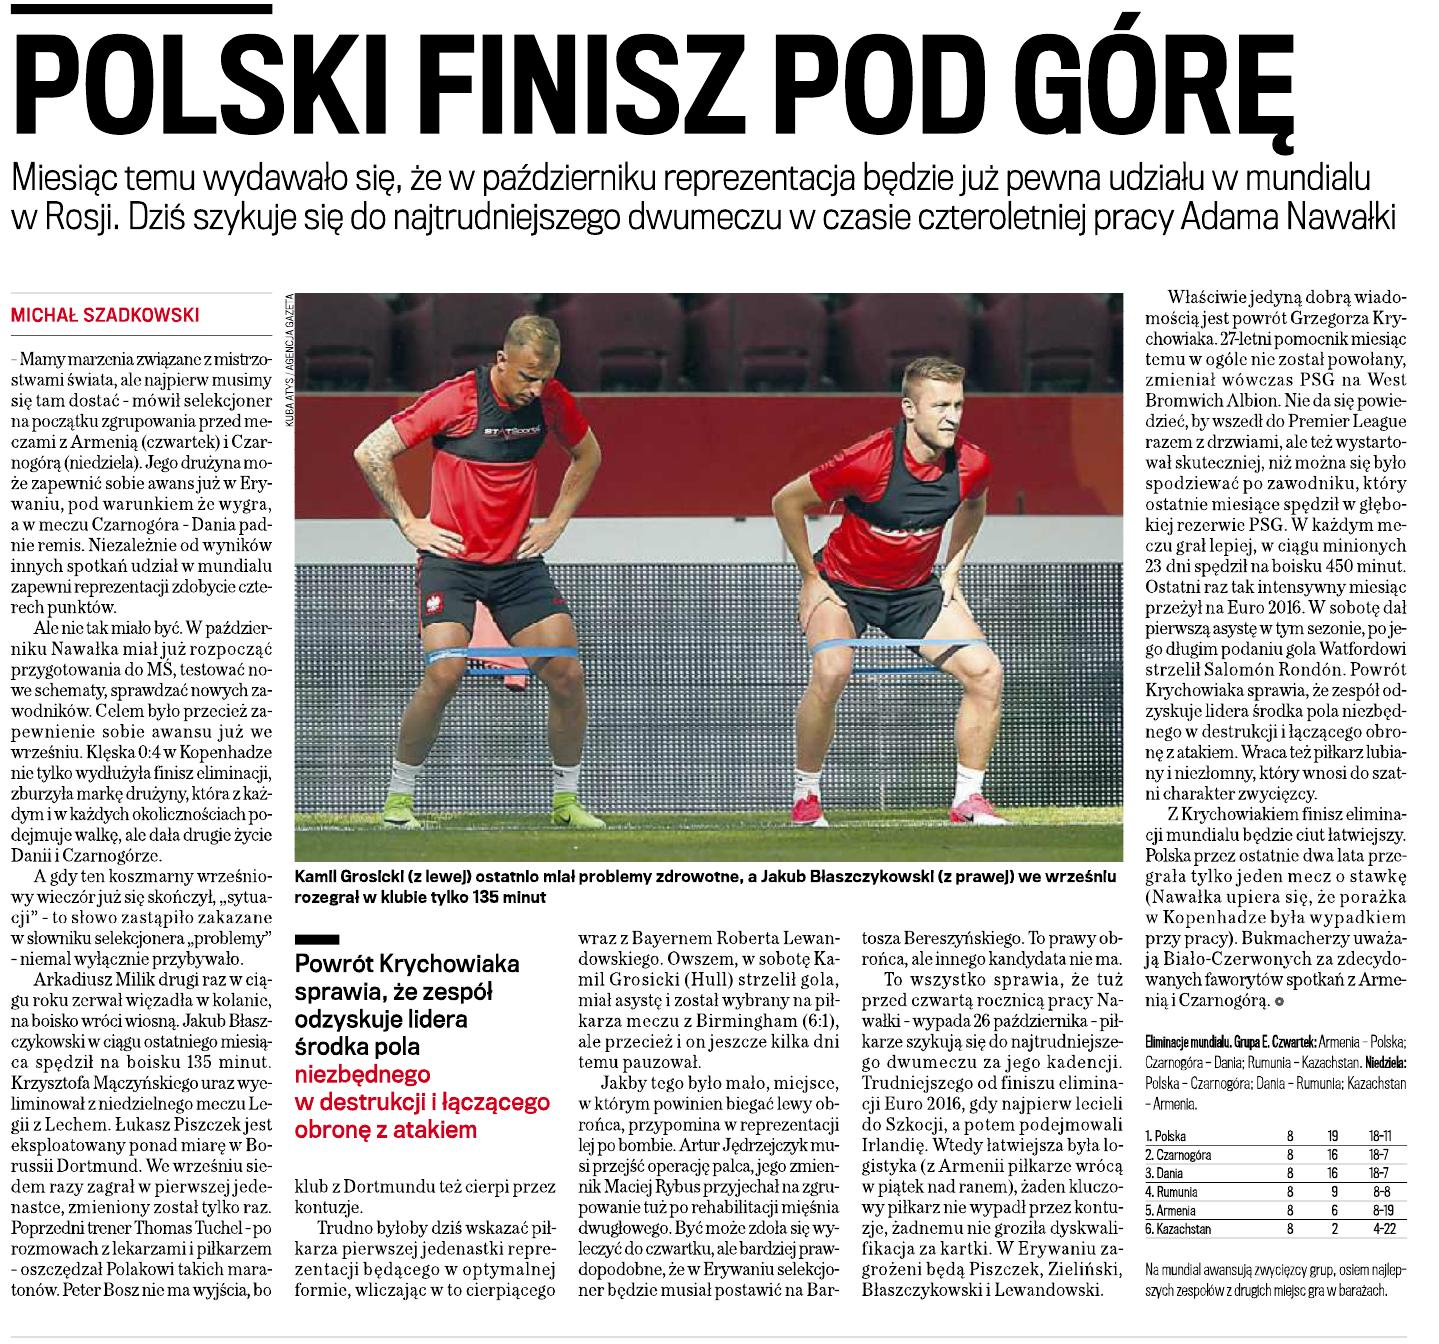author: (6, 297, 219, 332)
body: (4, 344, 280, 1307), (1132, 282, 1416, 1017), (854, 921, 1129, 1306), (572, 925, 848, 1307), (291, 925, 566, 1151), (288, 1168, 565, 1302)
caption: (291, 865, 1127, 911)
image: (291, 288, 1128, 864)
lead: (5, 157, 1409, 245)
title: (9, 14, 1325, 160)
